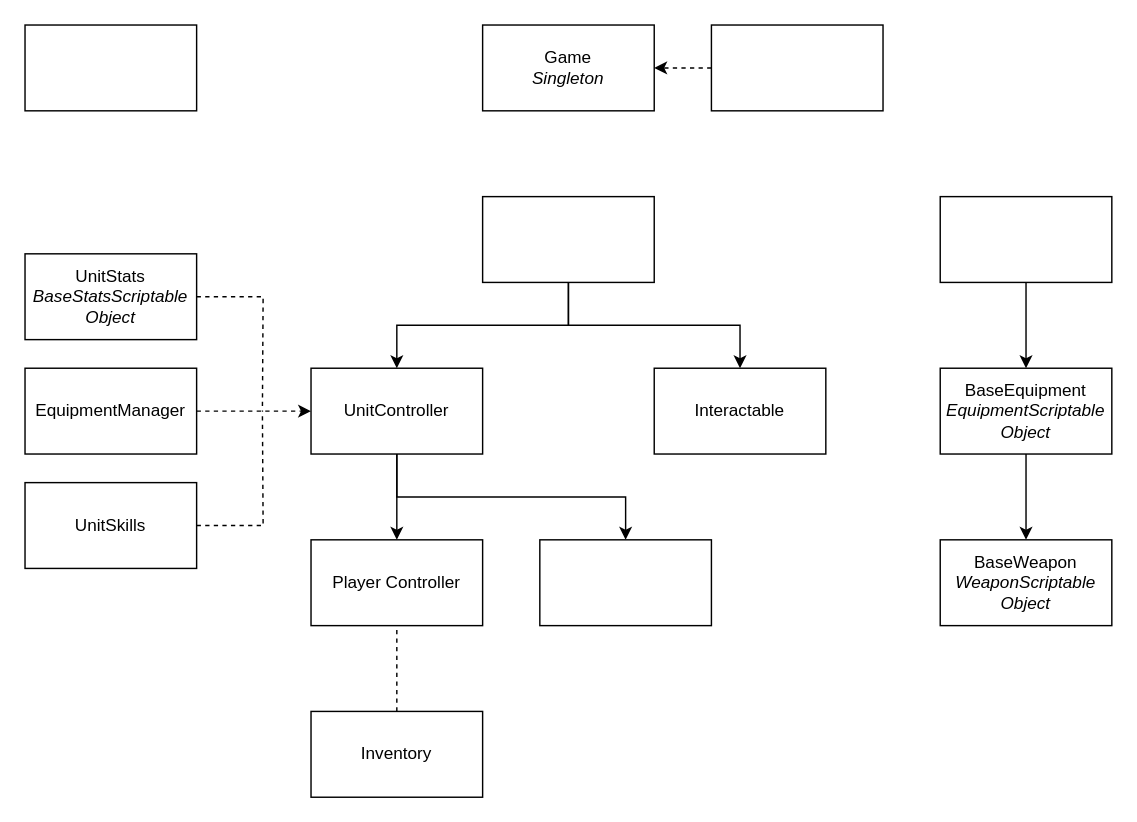
Some shapes in this 1137 by 822 pixel diagram are drawn without their labels. The centre of each missing label's shape, as x and y in pixels:
"BaseItems ItemScriptableObject" belongs at pixel 1025 238.
"Canvas UI" belongs at pixel 110 67.
"EnemyController EnemyScriptable Object" belongs at pixel 624 582.
"Map" belongs at pixel 796 67.
"Object" belongs at pixel 567 238.
